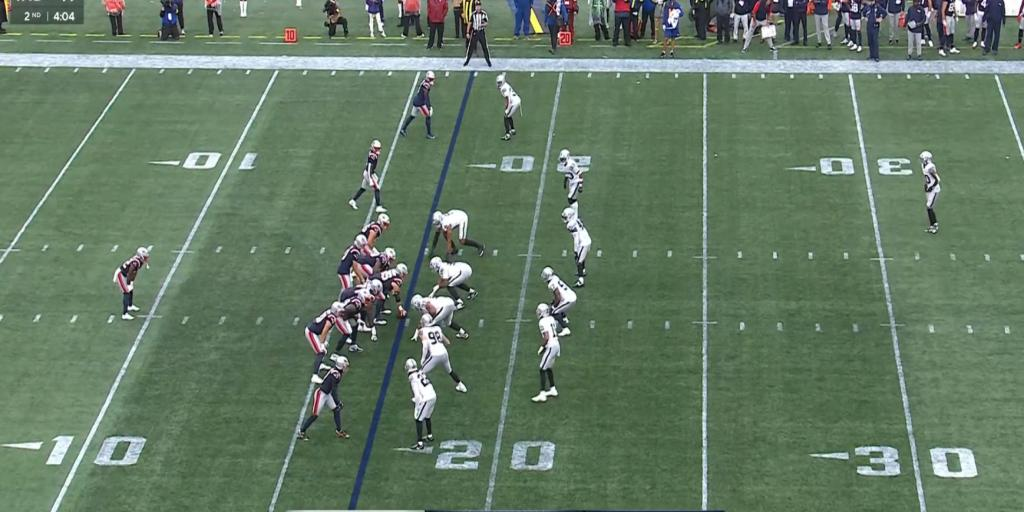player: (420, 314, 467, 392), (531, 303, 560, 402), (405, 358, 436, 449), (430, 257, 478, 308), (541, 267, 576, 335), (411, 295, 467, 337), (432, 209, 483, 255), (562, 207, 591, 286), (401, 71, 434, 137), (560, 149, 589, 213), (920, 150, 941, 233), (496, 73, 521, 139)
